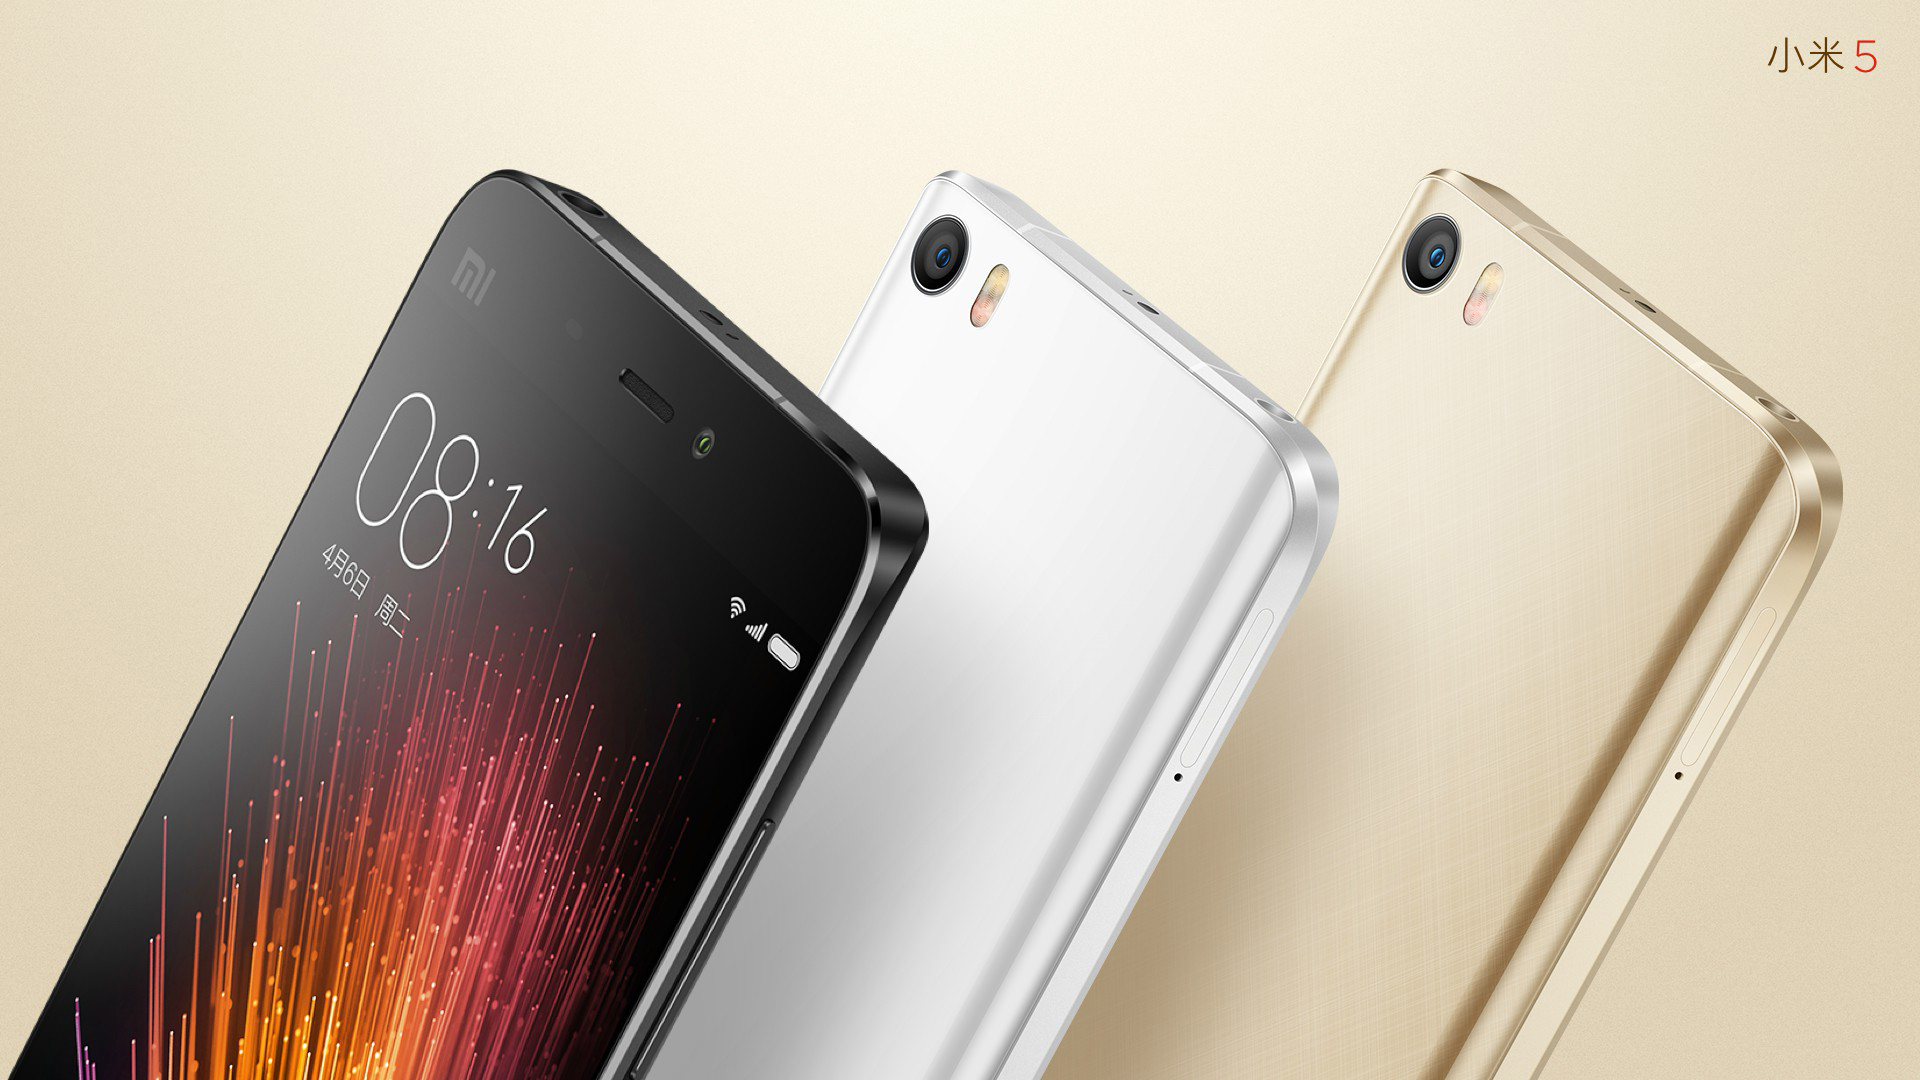smartphone: (9, 165, 930, 1080), (1039, 165, 1844, 1079), (649, 167, 1342, 1080)
